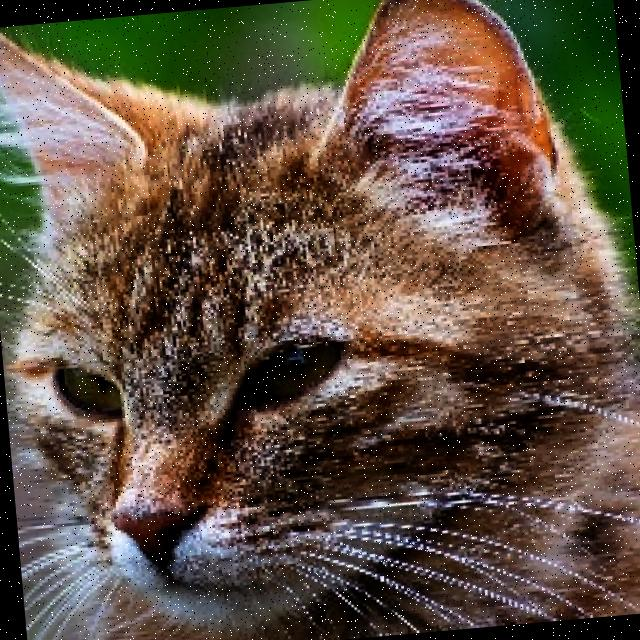Angry: (0, 233, 423, 640)
